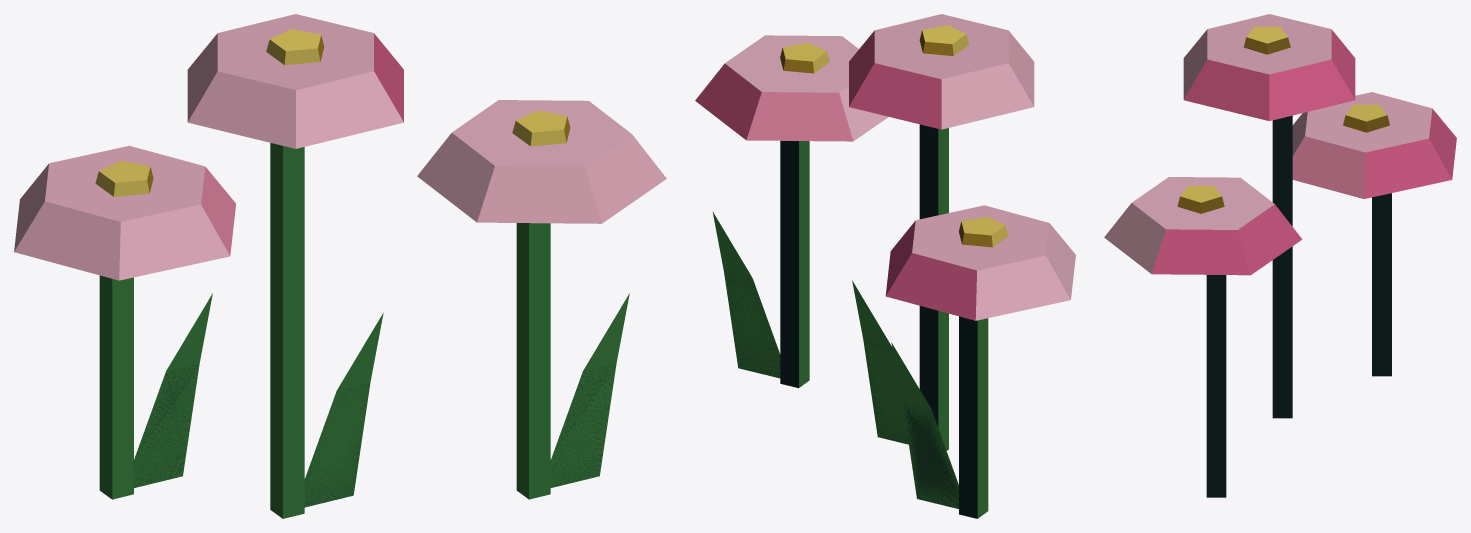
File: flower_pink.glb
The picture shows the model from 3 angles, left to right: view 1: azimuth 30°, elevation 25°; view 2: azimuth 150°, elevation 25°; view 3: azimuth 270°, elevation 25°; orthographic projection. The views are drawn at different scales.
Parts seen in each view (by area): view 1: flower_pink; view 2: flower_pink; view 3: flower_pink.
Part boxes in pixels (<box>): flower_pink: <box>14,14,666,518</box>; flower_pink: <box>695,14,1075,518</box>; flower_pink: <box>1104,14,1456,497</box>.
Size of the model in its own units: 0.4299 by 0.38 by 0.32.
